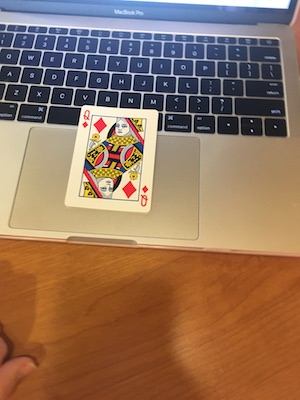QueenOfDiamonds: (61, 99, 158, 229)
